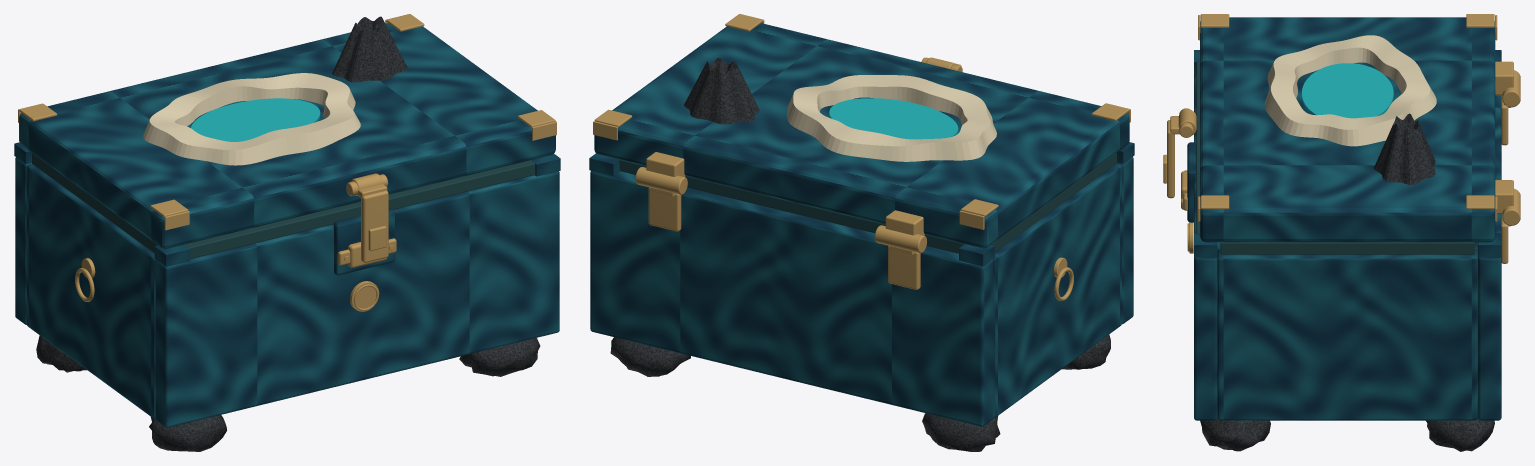
Rendered from pacific-ocean.glb.
The picture shows the model from 3 angles, left to right: view 1: azimuth 30°, elevation 25°; view 2: azimuth 150°, elevation 25°; view 3: azimuth 270°, elevation 25°; orthographic projection.
Visible parts, largest first — view 1: Ocean / front, Lid / polished slab, Ocean / side, Atoll / coral sand ring, Deep seam / long, Atoll / lagoon, Seamount / basalt crater, Granite foot, Granite foot.002, Ocean / rear, Latch / lifting hasp, Ocean / clasp seat (+4 smaller); view 2: Ocean / rear, Lid / polished slab, Ocean / side, Atoll / coral sand ring, Atoll / lagoon, Seamount / basalt crater, Deep seam / long.001, Granite foot.001, Ocean / front, Granite foot.003, Deep seam / side, Hinge / fixed mount.001 (+8 smaller); view 3: Lid / polished slab, Ocean / side.001, Atoll / coral sand ring, Ocean / rear, Ocean / front, Atoll / lagoon, Deep seam / side.001, Seamount / basalt crater, Granite foot.002, Granite foot.003, Ocean / clasp seat, Deep seam / long (+11 smaller).
Part boxes in pixels (x1,y1,x2,y2): Ocean / front: (155, 171, 559, 427); Lid / polished slab: (19, 23, 555, 248); Ocean / side: (26, 164, 155, 419); Atoll / coral sand ring: (143, 73, 360, 165); Deep seam / long: (184, 160, 535, 258); Atoll / lagoon: (191, 98, 320, 141); Seamount / basalt crater: (332, 16, 407, 82); Granite foot: (149, 415, 226, 451); Granite foot.002: (459, 338, 540, 376); Ocean / rear: (15, 157, 31, 324); Latch / lifting hasp: (361, 190, 388, 262); Ocean / clasp seat: (333, 208, 395, 275); Ocean / rear: (590, 170, 993, 426); Lid / polished slab: (594, 23, 1129, 248); Ocean / side: (993, 163, 1121, 418); Atoll / coral sand ring: (787, 75, 996, 161); Atoll / lagoon: (829, 98, 958, 139); Seamount / basalt crater: (684, 58, 759, 124); Deep seam / long.001: (619, 160, 964, 253); Granite foot.001: (922, 413, 1000, 451); Ocean / front: (1117, 157, 1133, 324); Granite foot.003: (610, 337, 690, 376); Deep seam / side: (991, 153, 1116, 252); Hinge / fixed mount.001: (648, 187, 681, 231); Lid / polished slab: (1200, 17, 1495, 242); Ocean / side.001: (1217, 249, 1477, 420); Atoll / coral sand ring: (1264, 35, 1436, 146); Ocean / rear: (1478, 95, 1501, 420); Ocean / front: (1194, 74, 1217, 420); Atoll / lagoon: (1301, 63, 1393, 118); Deep seam / side.001: (1220, 242, 1474, 254); Seamount / basalt crater: (1374, 113, 1435, 184); Granite foot.002: (1200, 418, 1270, 451); Granite foot.003: (1426, 419, 1494, 451); Ocean / clasp seat: (1187, 142, 1196, 222); Deep seam / long: (1196, 61, 1199, 232).
Bounding box in the file's own units: 3.79 × 2.71 × 2.88.
Materials: 6 (2 with a texture image).
